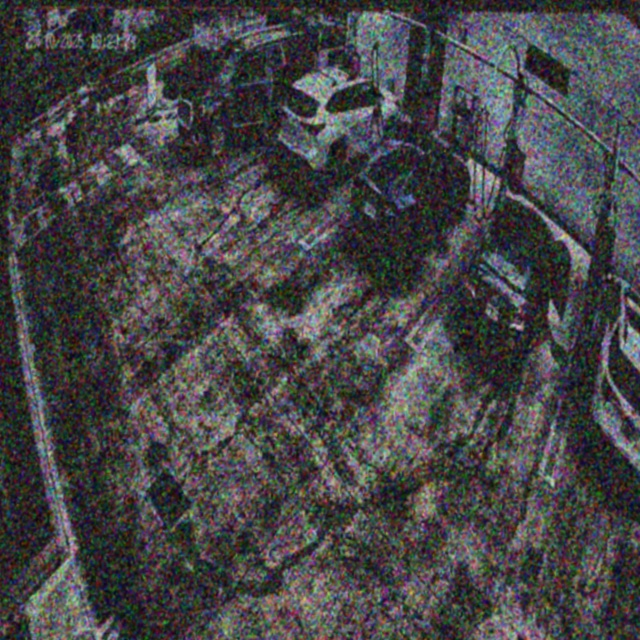Car: (456, 191, 576, 369), (347, 117, 476, 279), (276, 59, 405, 185)
